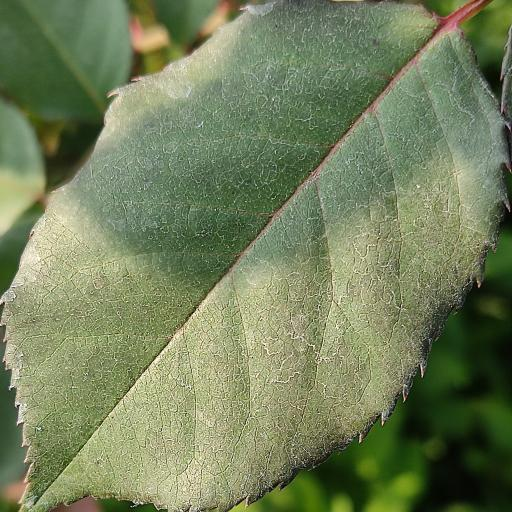healthy_leaf: (3, 0, 511, 512)
